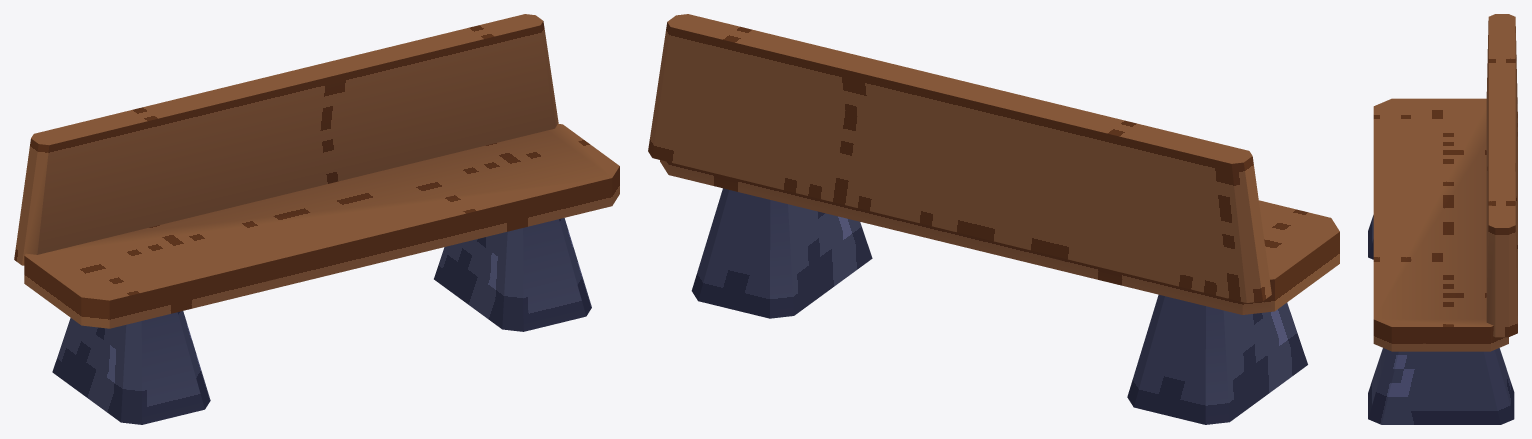
The model's file is cydress.bench.glb.
The picture shows the model from 3 angles, left to right: view 1: azimuth 30°, elevation 25°; view 2: azimuth 150°, elevation 25°; view 3: azimuth 270°, elevation 25°; orthographic projection. The views are drawn at different scales.
Visible parts, largest first — view 1: kit_body; view 2: kit_body; view 3: kit_body.
Part boxes in pixels (x1,y1,x2,y2): kit_body: (14, 14, 619, 424); kit_body: (648, 14, 1339, 424); kit_body: (1368, 14, 1517, 424).
Size of the model in its own units: 2.4 by 1 by 0.665.
2 materials, 2 textured.
